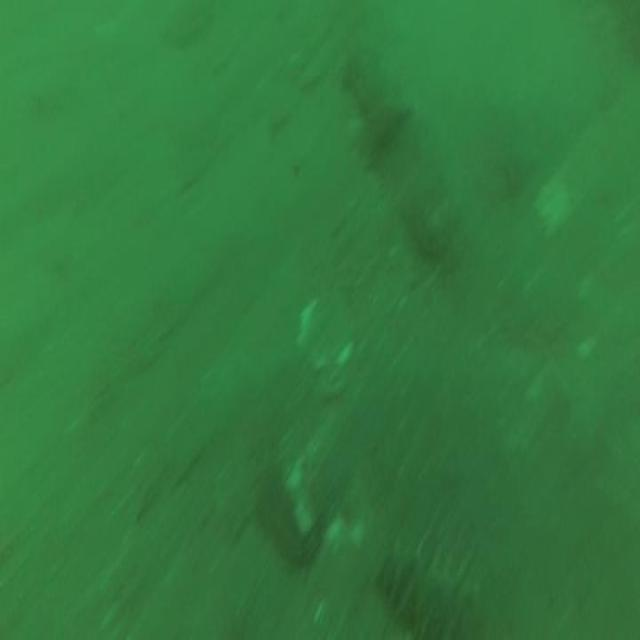holothurian: (374, 515, 484, 640)
